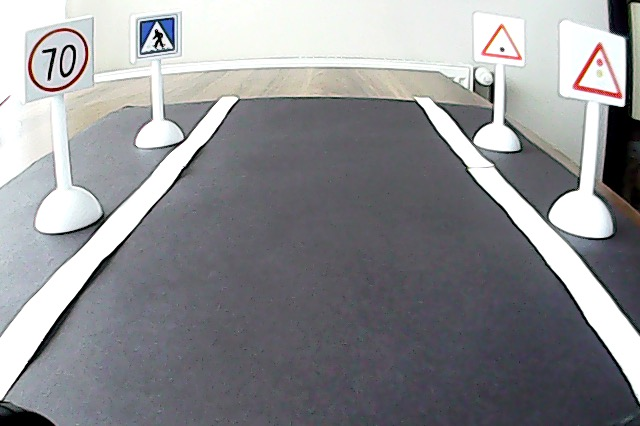green light: (477, 15, 524, 64)
pedestrian crossing: (136, 16, 178, 57)
red light: (566, 32, 624, 103)
speed limit 70: (27, 31, 89, 92)
